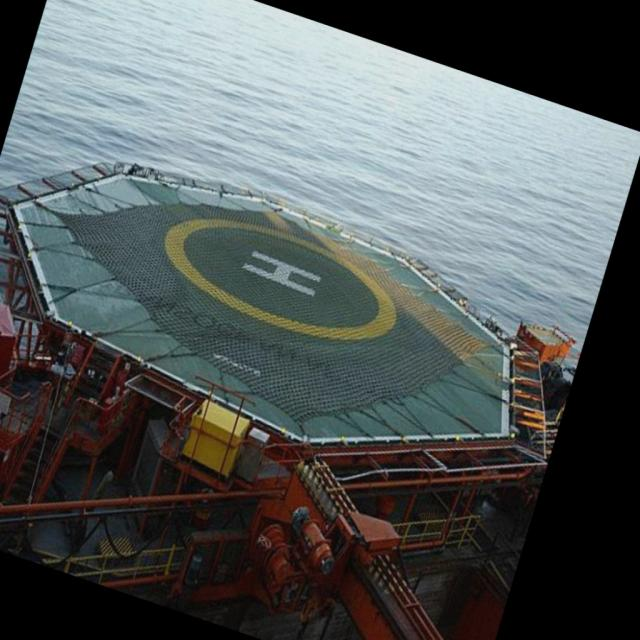helipad: (157, 211, 402, 344)
